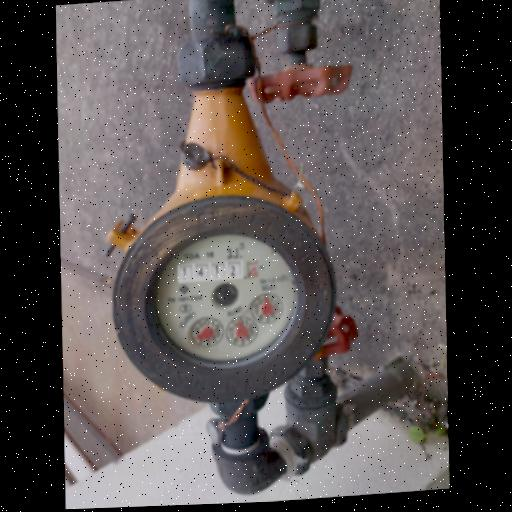1: (180, 265, 192, 280), (212, 263, 224, 277)
2: (228, 261, 240, 276)
4: (196, 264, 208, 279), (246, 261, 257, 276)
border_water_meter_number: (176, 258, 260, 283)
